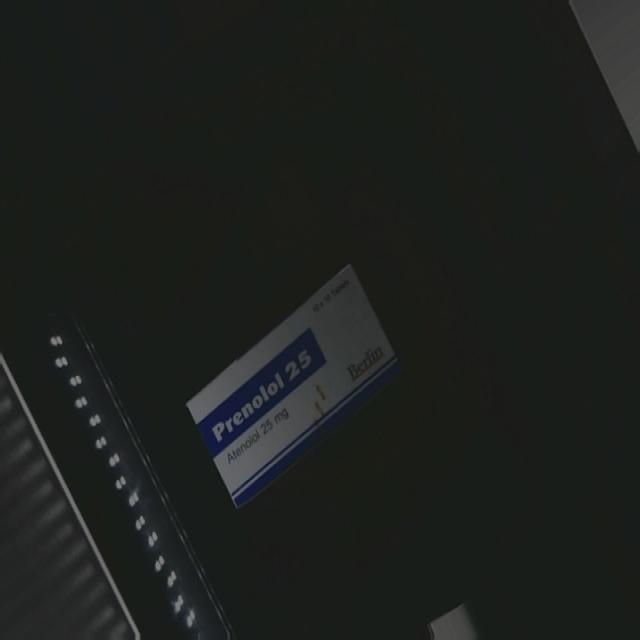prenolol: (184, 268, 399, 504)
